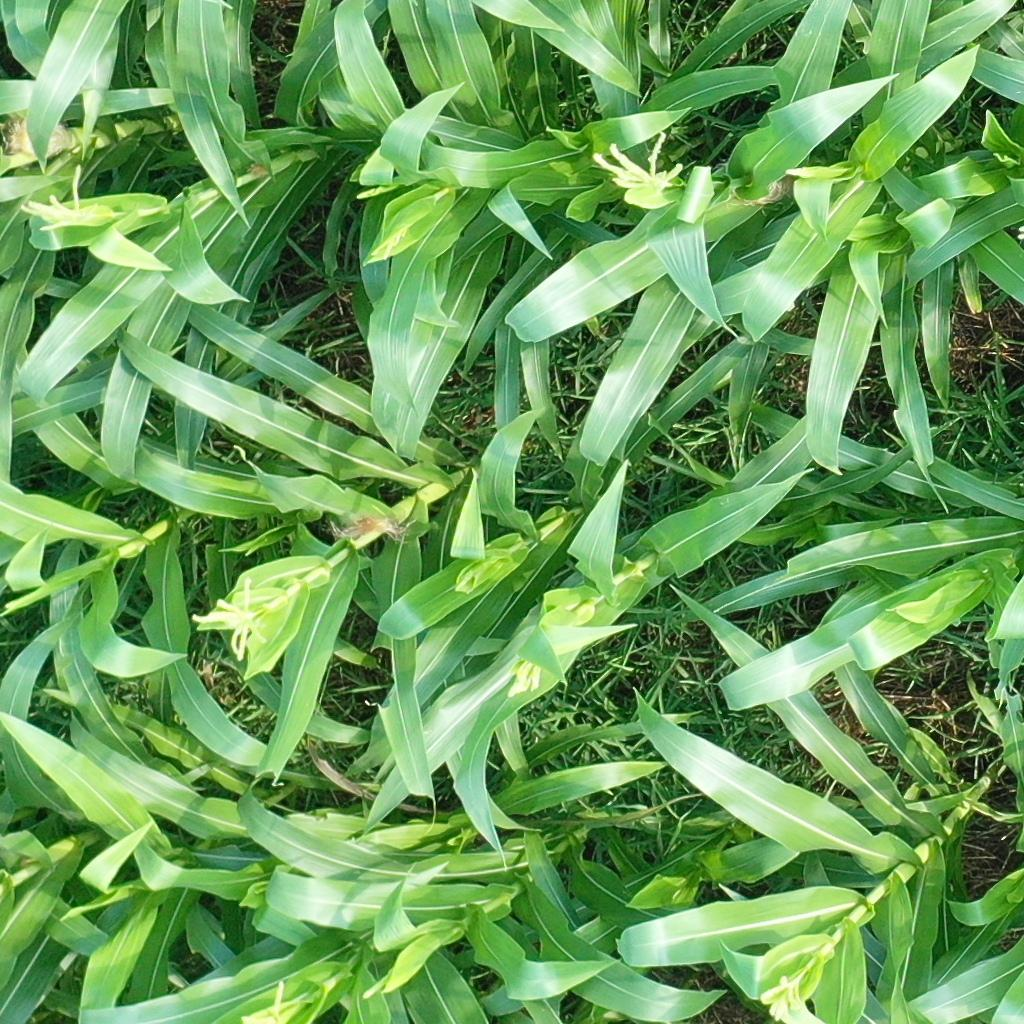Tassel: (186, 573, 272, 664), (17, 161, 103, 242), (590, 133, 688, 198), (240, 974, 295, 1024), (760, 966, 808, 1023), (505, 648, 551, 700), (448, 552, 493, 601), (367, 224, 408, 264), (784, 164, 825, 180)
